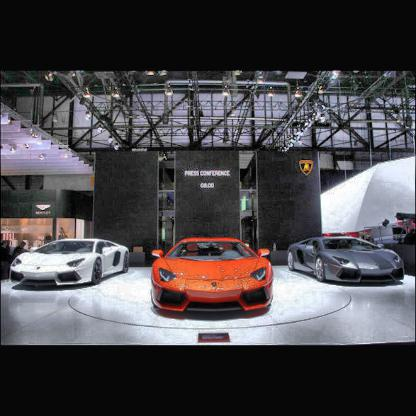Lamborghini Aventador Coupe 2012: (152, 240, 274, 312)
